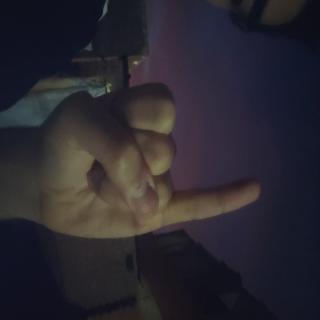MEEM: (56, 68, 181, 320)
